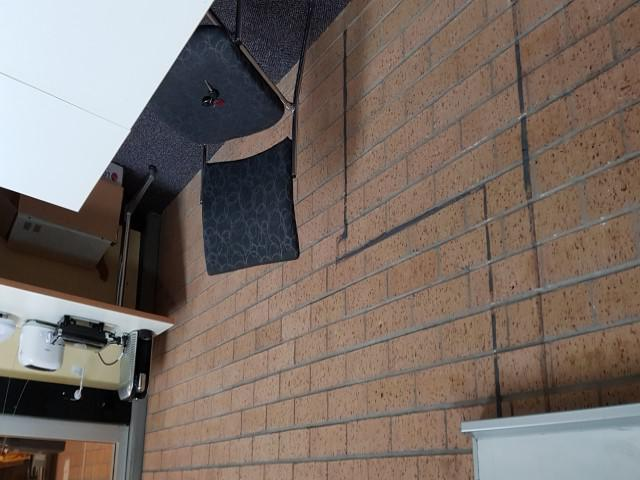key: (201, 79, 222, 100)
